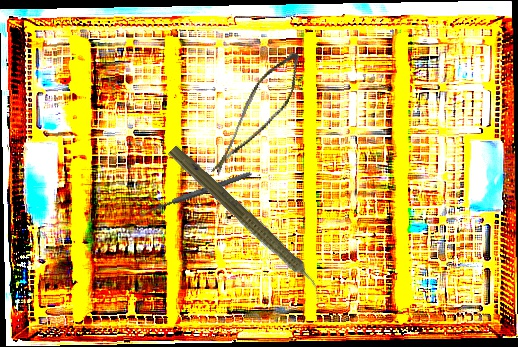Handpiece: (162, 142, 333, 304)
Micro Scissor: (211, 41, 307, 189)
Surgical Spoon: (138, 169, 253, 218)
